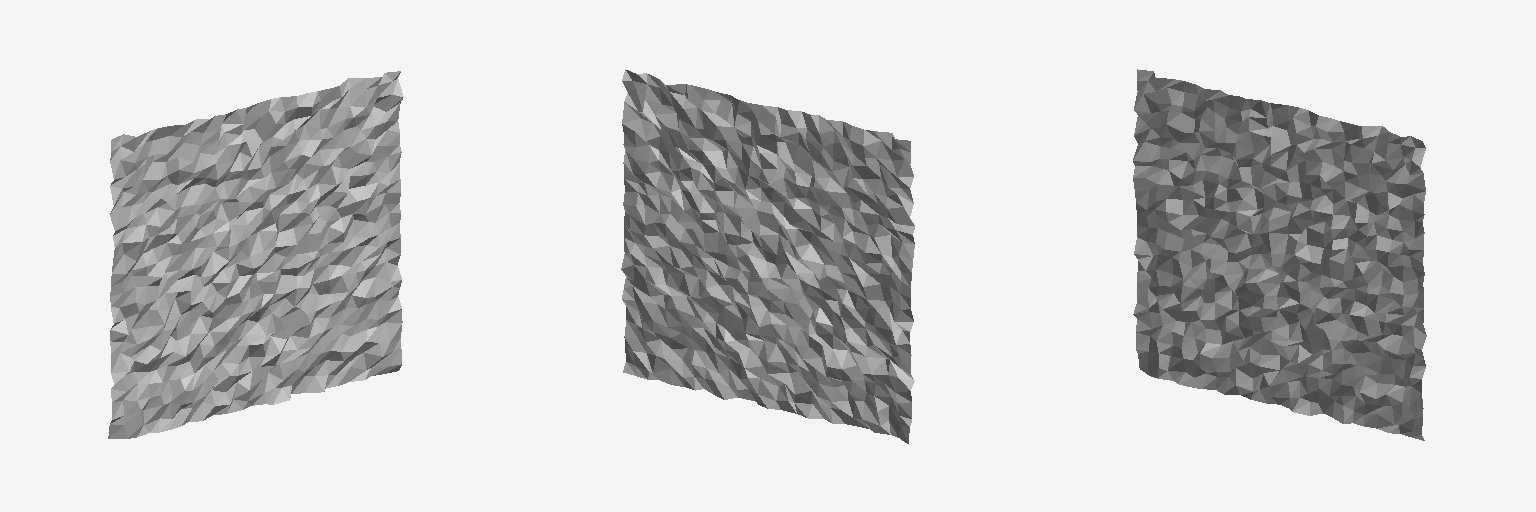
The model's file is water3.obj.
3 renders of one model, left to right at view 1: azimuth 30°, elevation 25°; view 2: azimuth 150°, elevation 25°; view 3: azimuth 330°, elevation 25°, orthographic.
Size of the model in its own units: 1 by 1 by 0.0579.